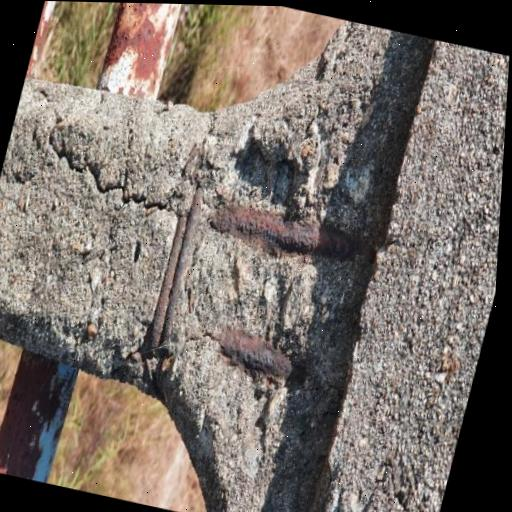exposed_rebar: (148, 188, 202, 355), (210, 206, 374, 260), (219, 325, 306, 383)
